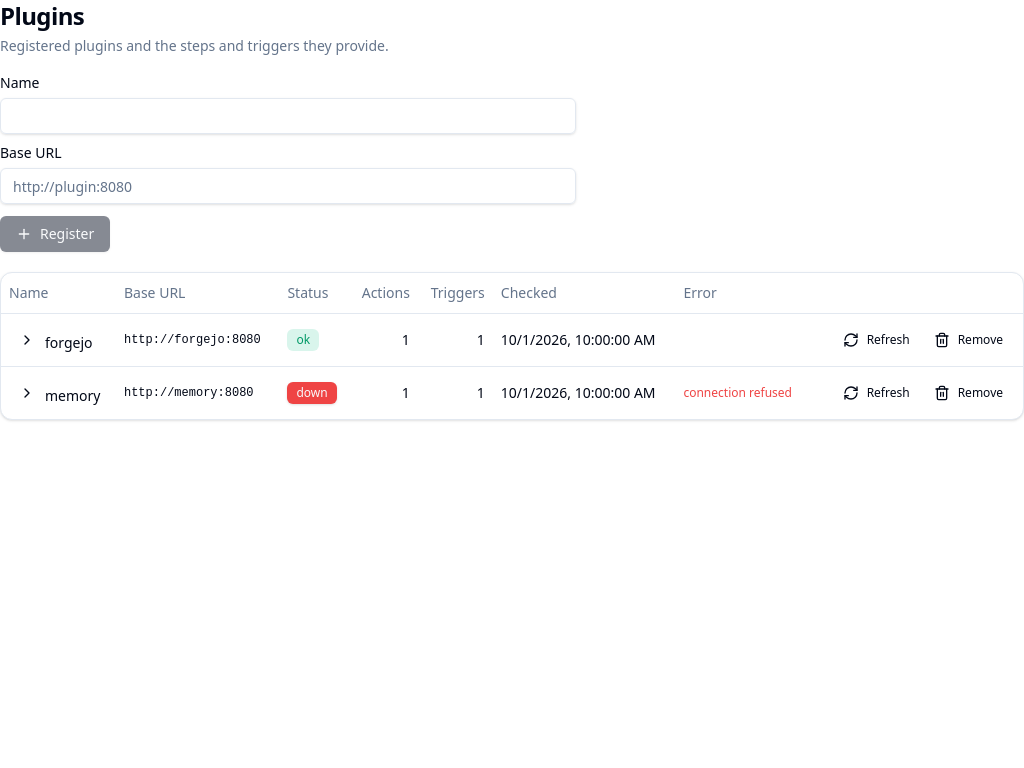
Test case: Plugins › shows the 409 message when the plugin is in use
Click the button with aria-label "Remove forgejo".
click(968, 340)  # box x1=922 y1=324 x2=1015 y2=356
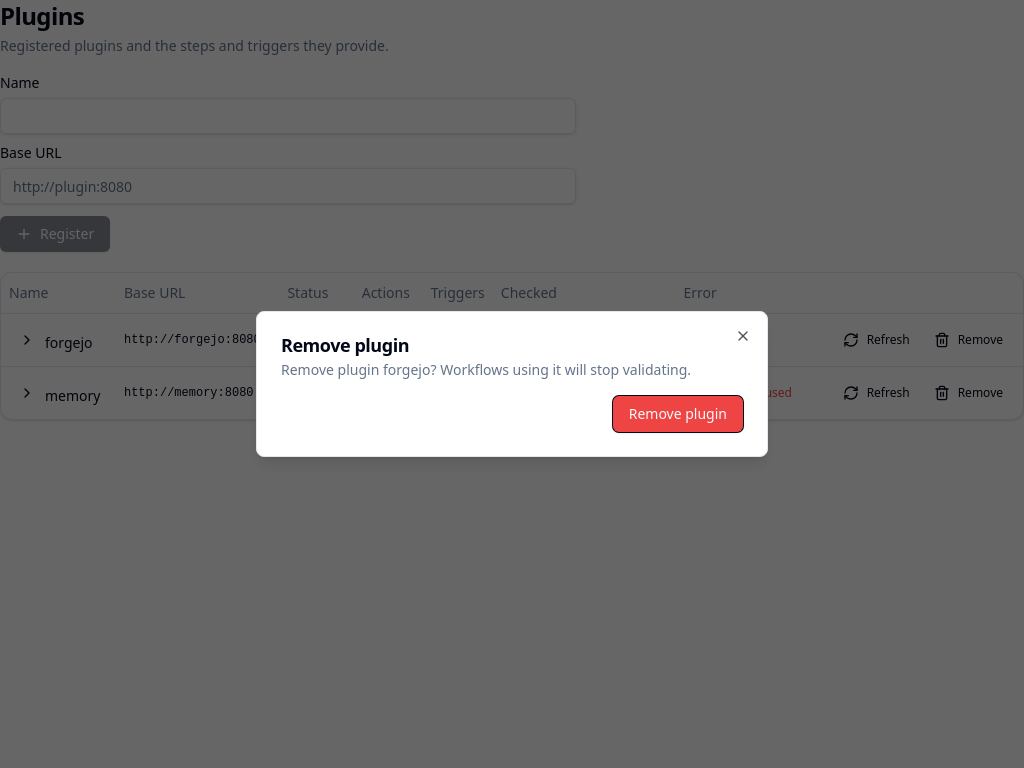
Click the button "Remove plugin".
click(678, 414)  # box x1=613 y1=396 x2=743 y2=432
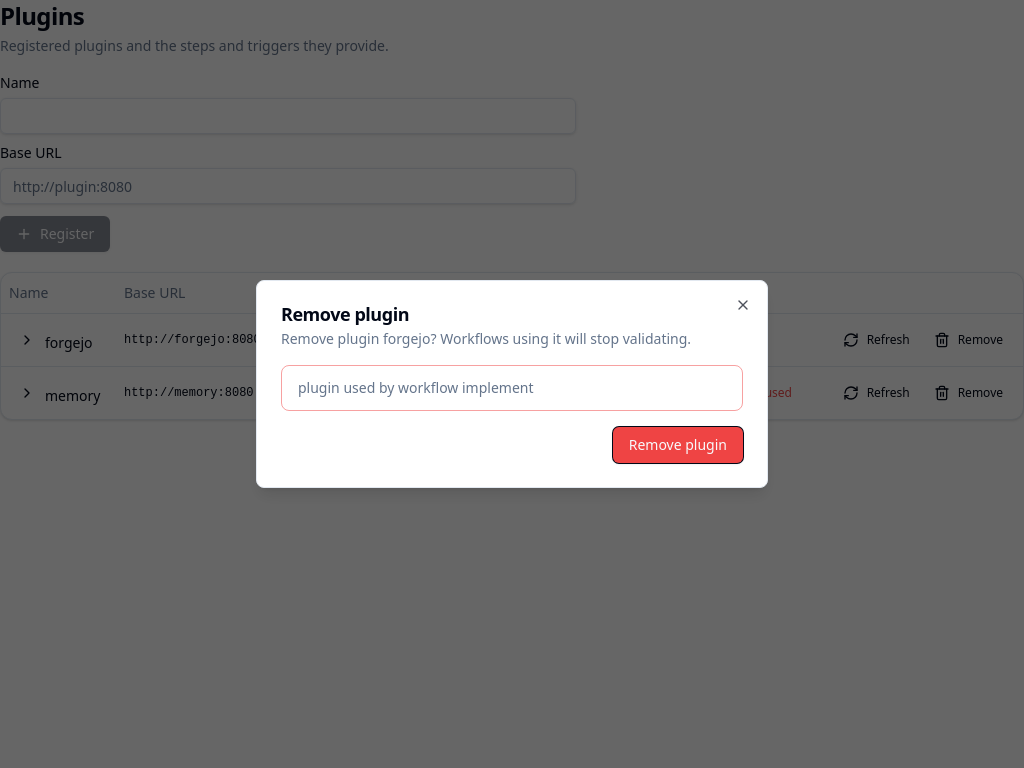
Expected: the message reads "plugin used by workflow implement", x1=298 y1=378 x2=534 y2=397
